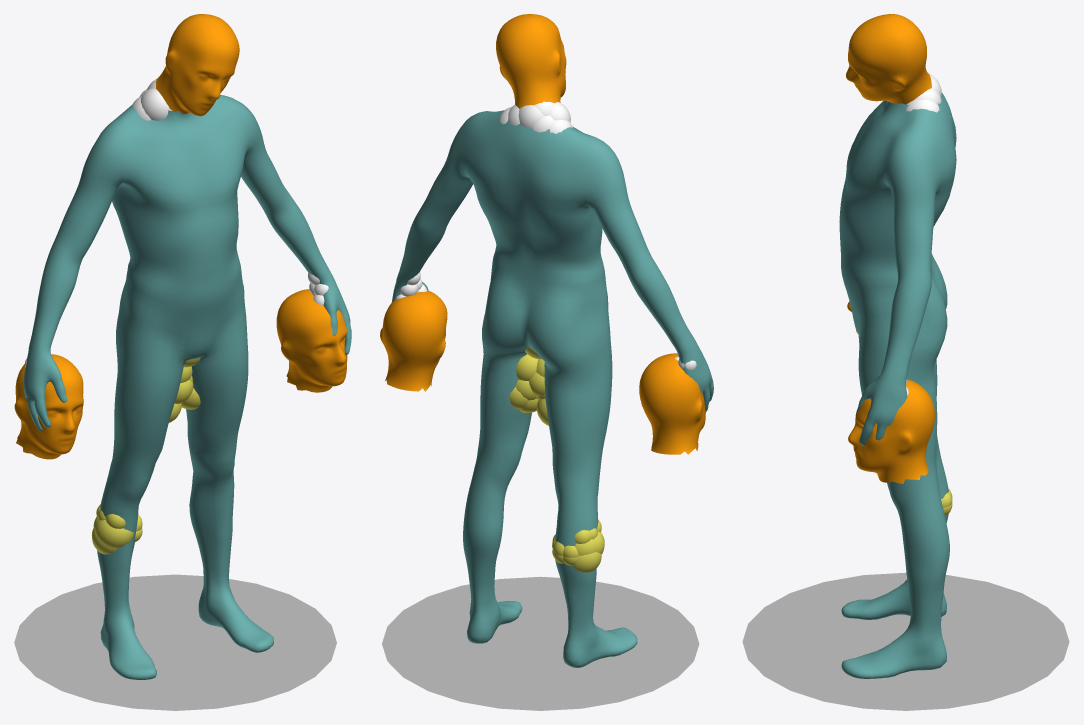
Rendered from hooman.gltf.
3 views of the same model, side by side, from view 1: azimuth 30°, elevation 25°; view 2: azimuth 150°, elevation 25°; view 3: azimuth 270°, elevation 25° (orthographic). The views are drawn at different scales.
Parts seen in each view (by area): view 1: pasted__pasted__pasted__polySurface2; view 2: pasted__pasted__pasted__polySurface2; view 3: pasted__pasted__pasted__polySurface2.
Boxes of the visible parts, left/top/right/bottom form: pasted__pasted__pasted__polySurface2: left=14, top=14, right=351, bottom=710; pasted__pasted__pasted__polySurface2: left=380, top=14, right=713, bottom=710; pasted__pasted__pasted__polySurface2: left=742, top=14, right=1069, bottom=710.
Size of the model in its own units: 0.1849 by 0.3443 by 0.16.
